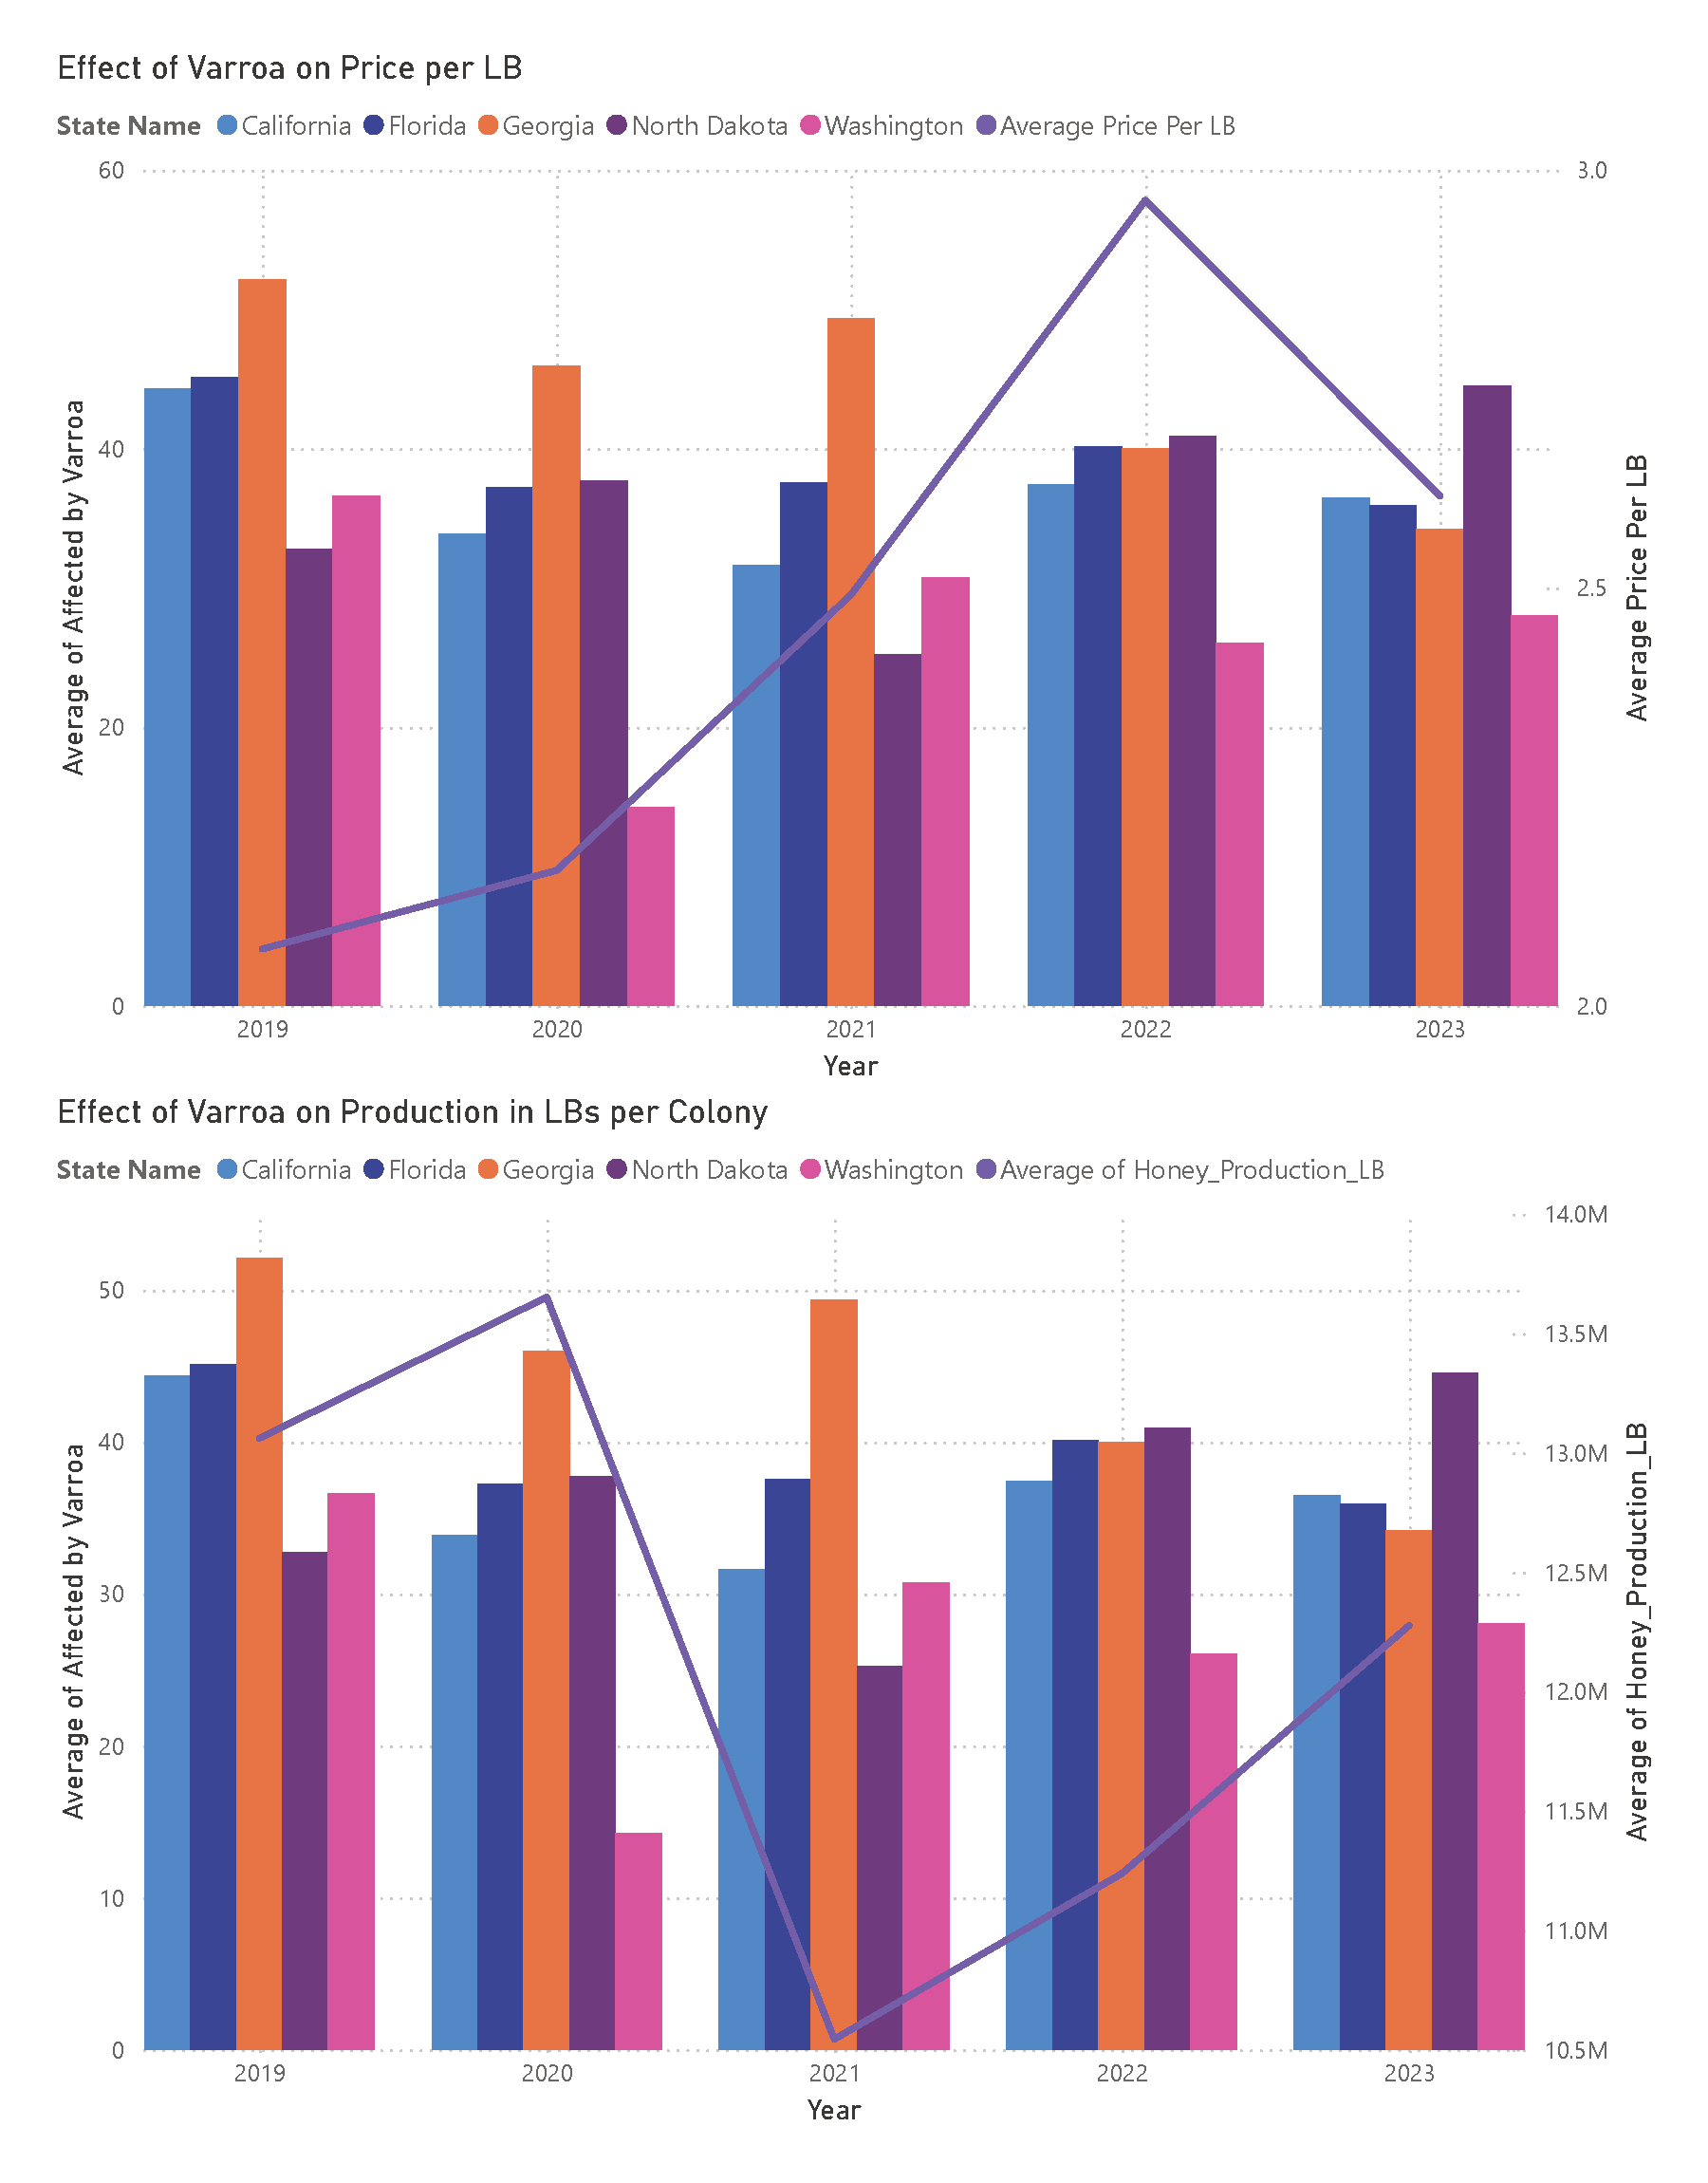

The page's visual inventory and layout, read from the dashboard file:
{"tool":"powerbi","page":{"name":"Effect of Varroa on Production & Price","canvas":[816,1056],"ordinal":8},"visuals":[{"type":"lineClusteredColumnComboChart","title":"Effect of Varroa on Price per LB","fields":{"Category":["honey data.Year"],"Y":["Avg(honey data.Affected by Varroa)"],"Y2":["honey data.Average Price Per LB"],"Series":["honey data.State Name"]},"box":[0,0,815.6,528],"z":0},{"type":"lineClusteredColumnComboChart","title":"Effect of Varroa on Production in LBs per Colony","fields":{"Category":["honey data.Year"],"Y":["Avg(honey data.Affected by Varroa)"],"Series":["honey data.State Name"],"Y2":["Avg(honey data.Honey_Production_LB)"]},"box":[0,528,815.6,528],"z":1000}]}

Visuals, with their boxes on the page's 816x1056 design canvas (x1, y1, x2, y2). These are canvas units, not pixel positions in the 1708x2183 screenshot, which may show the page scaled, cropped or inside an application window:
"Effect of Varroa on Price per LB" lineClusteredColumnComboChart: box(0, 0, 816, 528)
"Effect of Varroa on Production in LBs per Colony" lineClusteredColumnComboChart: box(0, 528, 816, 1056)
